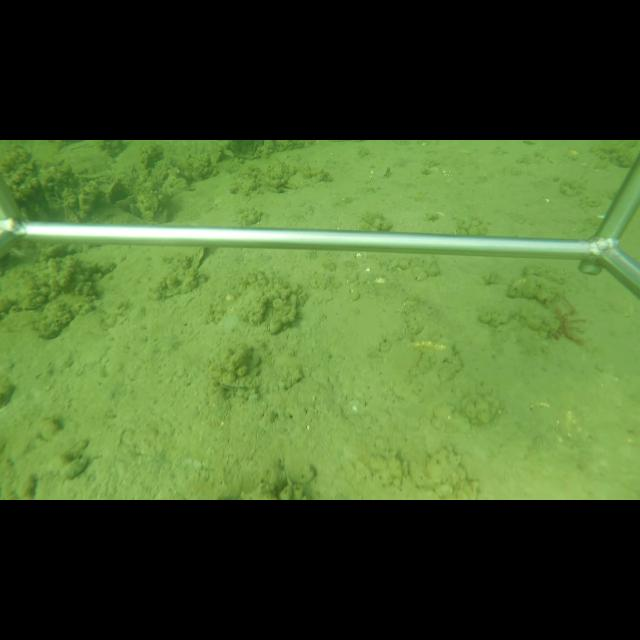Oyster-Closed: (191, 247, 207, 272), (106, 180, 123, 202)
